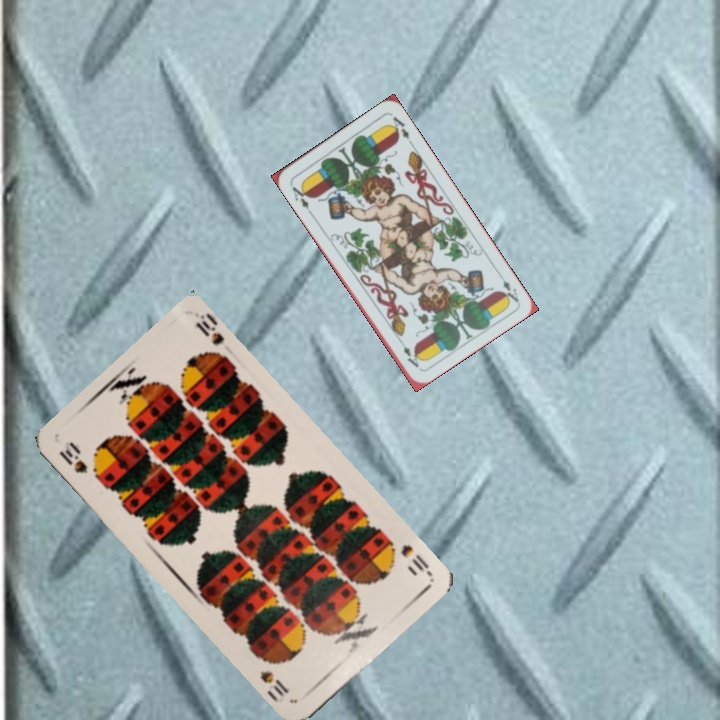EA: (286, 180, 314, 216), (497, 275, 521, 305)
S10: (384, 535, 434, 577), (55, 437, 91, 477)
